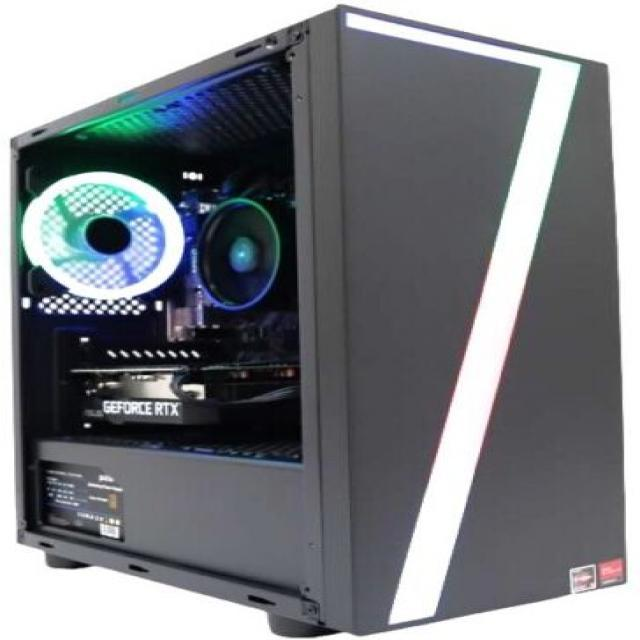Desktop-PC: (12, 13, 640, 639)
